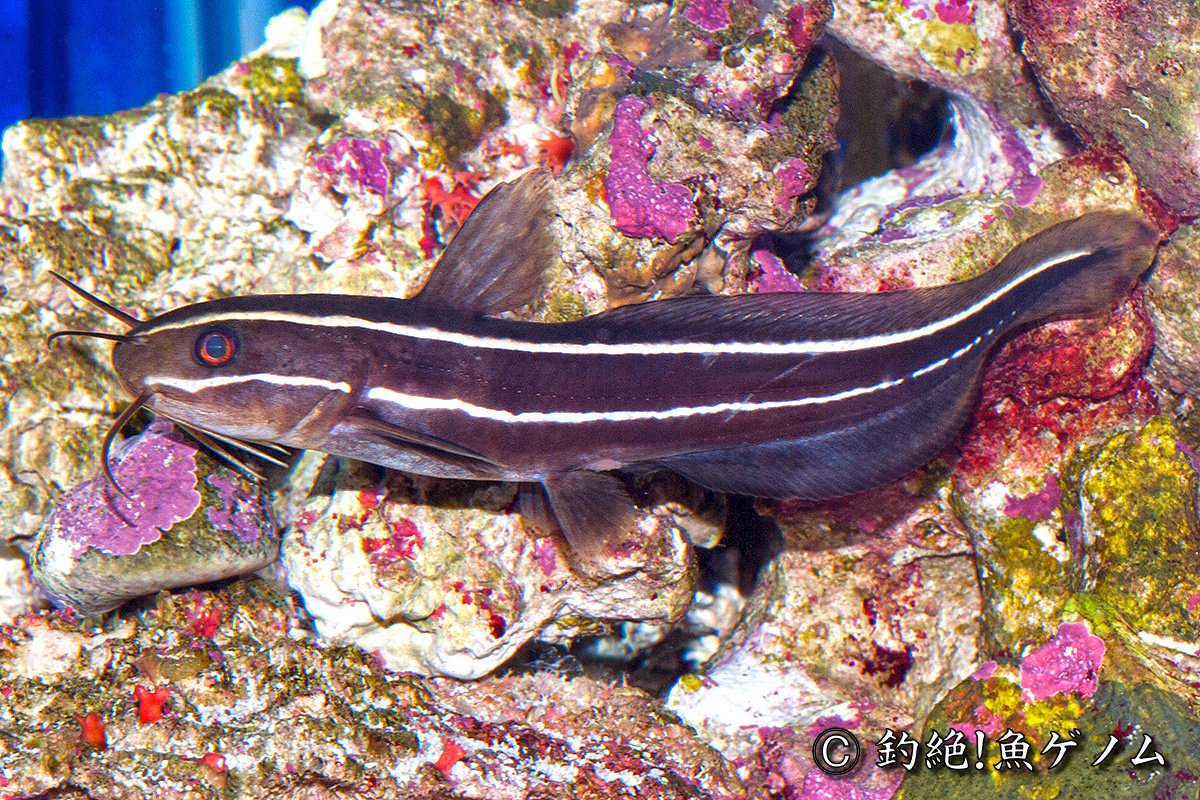gonzui: (107, 184, 1164, 537)
